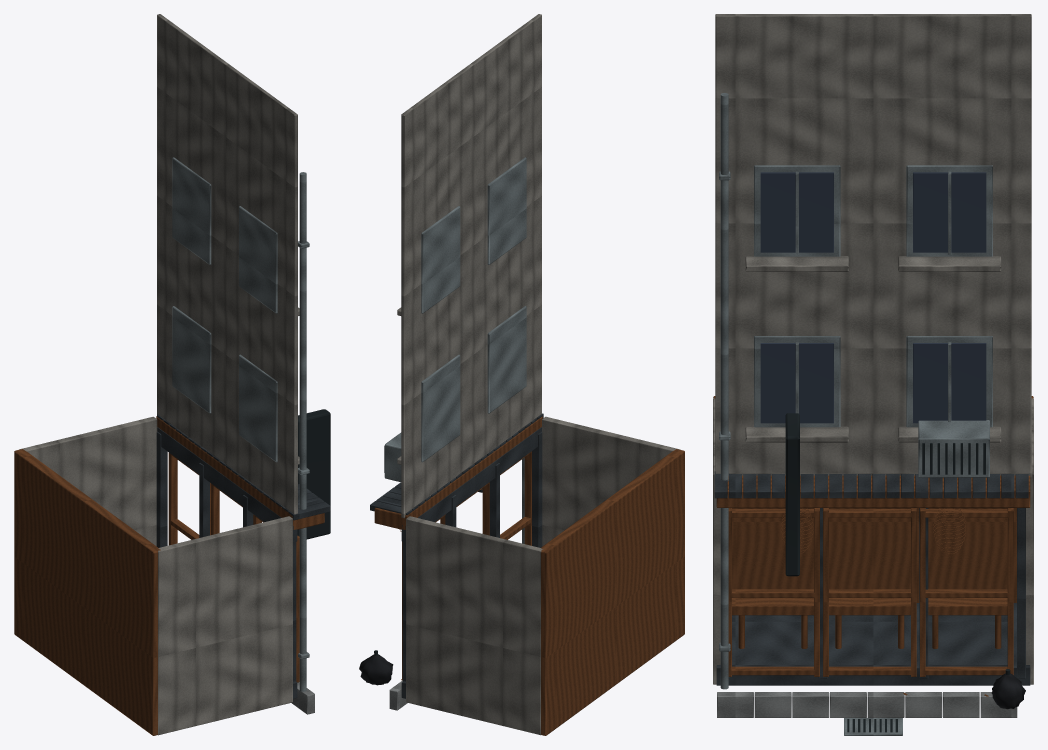
File: tokyo-shopfront-left.glb
3 views of the same model, side by side, from view 1: azimuth 30°, elevation 25°; view 2: azimuth 150°, elevation 25°; view 3: azimuth 270°, elevation 25° (orthographic). The views are drawn at different scales.
Parts seen in each view (by area): view 1: tokyo-shopfront-left/Weather-streaked upper facade, tokyo-shopfront-left/Recessed shop rear wall, tokyo-shopfront-left/Shop party wall, tokyo-shopfront-left/Shop party wall.001, tokyo-shopfront-left/Rainwater downpipe, tokyo-shopfront-left/Upper aluminium window.001, tokyo-shopfront-left/Upper aluminium window.003, tokyo-shopfront-left/Upper aluminium window, tokyo-shopfront-left/Upper aluminium window.002, tokyo-shopfront-left/Projecting enamel sign, tokyo-shopfront-left/Black ceramic shopfront lintel, tokyo-shopfront-left/Shop awning fascia (+5 smaller); view 2: tokyo-shopfront-left/Weather-streaked upper facade, tokyo-shopfront-left/Recessed shop rear wall, tokyo-shopfront-left/Shop party wall.001, tokyo-shopfront-left/Shop party wall, tokyo-shopfront-left/Upper aluminium window.001, tokyo-shopfront-left/Upper aluminium window, tokyo-shopfront-left/Upper aluminium window.002, tokyo-shopfront-left/Upper aluminium window.003, tokyo-shopfront-left/Black ceramic shopfront lintel, tokyo-shopfront-left/Shop awning fascia, tokyo-shopfront-left/Ceramic facade pier, tokyo-shopfront-left/Rain-wet bin bag (+4 smaller); view 3: tokyo-shopfront-left/Weather-streaked upper facade, tokyo-shopfront-left/Recessed shop rear wall, tokyo-shopfront-left/Shop interior floor, tokyo-shopfront-left/Upper dark reflective glazing.002, tokyo-shopfront-left/Upper dark reflective glazing.003, tokyo-shopfront-left/Upper dark reflective glazing, tokyo-shopfront-left/Upper dark reflective glazing.001, tokyo-shopfront-left/Rainwater downpipe, tokyo-shopfront-left/Shop awning fascia, tokyo-shopfront-left/Black ceramic shopfront plinth, tokyo-shopfront-left/Air conditioning condenser, tokyo-shopfront-left/Projecting enamel sign (+41 smaller).
Boxes of the visible parts, x1,y1,x2,y2 form: tokyo-shopfront-left/Weather-streaked upper facade: (157, 14, 297, 514); tokyo-shopfront-left/Recessed shop rear wall: (14, 449, 160, 735); tokyo-shopfront-left/Shop party wall: (158, 516, 292, 735); tokyo-shopfront-left/Shop party wall.001: (19, 416, 157, 546); tokyo-shopfront-left/Rainwater downpipe: (299, 172, 306, 691); tokyo-shopfront-left/Upper aluminium window.001: (172, 306, 211, 413); tokyo-shopfront-left/Upper aluminium window.003: (172, 157, 211, 264); tokyo-shopfront-left/Upper aluminium window: (239, 354, 277, 462); tokyo-shopfront-left/Upper aluminium window.002: (239, 206, 277, 313); tokyo-shopfront-left/Projecting enamel sign: (297, 409, 330, 539); tokyo-shopfront-left/Black ceramic shopfront lintel: (157, 427, 297, 542); tokyo-shopfront-left/Shop awning fascia: (156, 416, 324, 529); tokyo-shopfront-left/Weather-streaked upper facade: (401, 14, 541, 518); tokyo-shopfront-left/Recessed shop rear wall: (541, 449, 684, 735); tokyo-shopfront-left/Shop party wall.001: (406, 516, 542, 735); tokyo-shopfront-left/Shop party wall: (542, 416, 680, 546); tokyo-shopfront-left/Upper aluminium window.001: (421, 354, 460, 462); tokyo-shopfront-left/Upper aluminium window: (487, 306, 526, 413); tokyo-shopfront-left/Upper aluminium window.002: (487, 157, 526, 264); tokyo-shopfront-left/Upper aluminium window.003: (421, 206, 460, 313); tokyo-shopfront-left/Black ceramic shopfront lintel: (401, 427, 541, 542); tokyo-shopfront-left/Shop awning fascia: (374, 416, 542, 529); tokyo-shopfront-left/Ceramic facade pier: (532, 431, 542, 547); tokyo-shopfront-left/Rain-wet bin bag: (359, 654, 393, 685); tokyo-shopfront-left/Weather-streaked upper facade: (715, 14, 1031, 478); tokyo-shopfront-left/Recessed shop rear wall: (713, 396, 1033, 602); tokyo-shopfront-left/Shop interior floor: (732, 603, 1016, 664); tokyo-shopfront-left/Upper dark reflective glazing.002: (760, 172, 833, 252); tokyo-shopfront-left/Upper dark reflective glazing.003: (913, 172, 986, 252); tokyo-shopfront-left/Upper dark reflective glazing: (760, 343, 833, 423); tokyo-shopfront-left/Upper dark reflective glazing.001: (913, 343, 986, 423); tokyo-shopfront-left/Rainwater downpipe: (720, 93, 728, 689); tokyo-shopfront-left/Shop awning fascia: (716, 475, 1030, 507); tokyo-shopfront-left/Black ceramic shopfront plinth: (716, 665, 1030, 685); tokyo-shopfront-left/Air conditioning condenser: (918, 420, 989, 477); tokyo-shopfront-left/Projecting enamel sign: (785, 413, 799, 576).
Bounding box in the file's own units: 3.1 × 8.53 × 3.58.
Materials: 10 (6 with a texture image).
